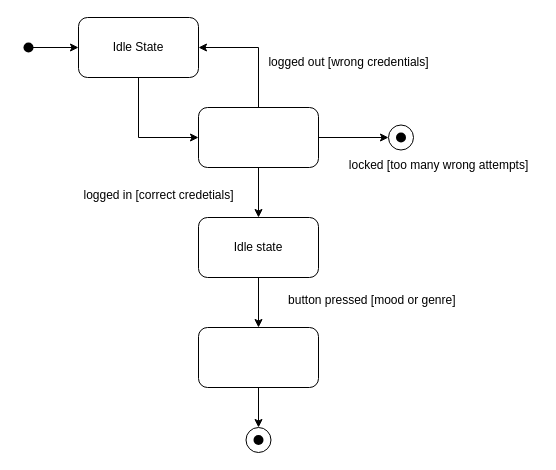
This 556x470 diagram has some shape labels left out. Each missing label, with the centre of its shape:
"Accepting credentials state" belongs at (x=258, y=137).
"rendering playlist state" belongs at (x=258, y=357).
